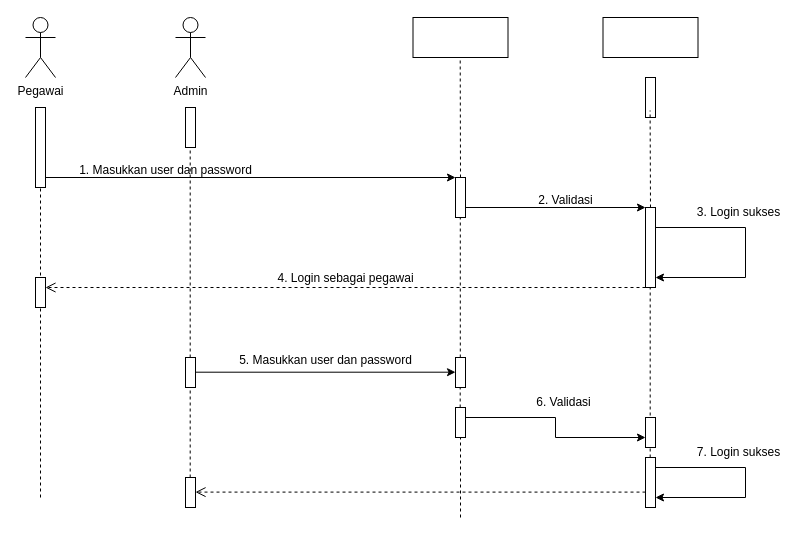
Some shapes in this 810 by 536 pixel diagram are drawn without their labels. Each missing label, with the centre of its shape:
data login: (650,37)
login form: (460,37)
